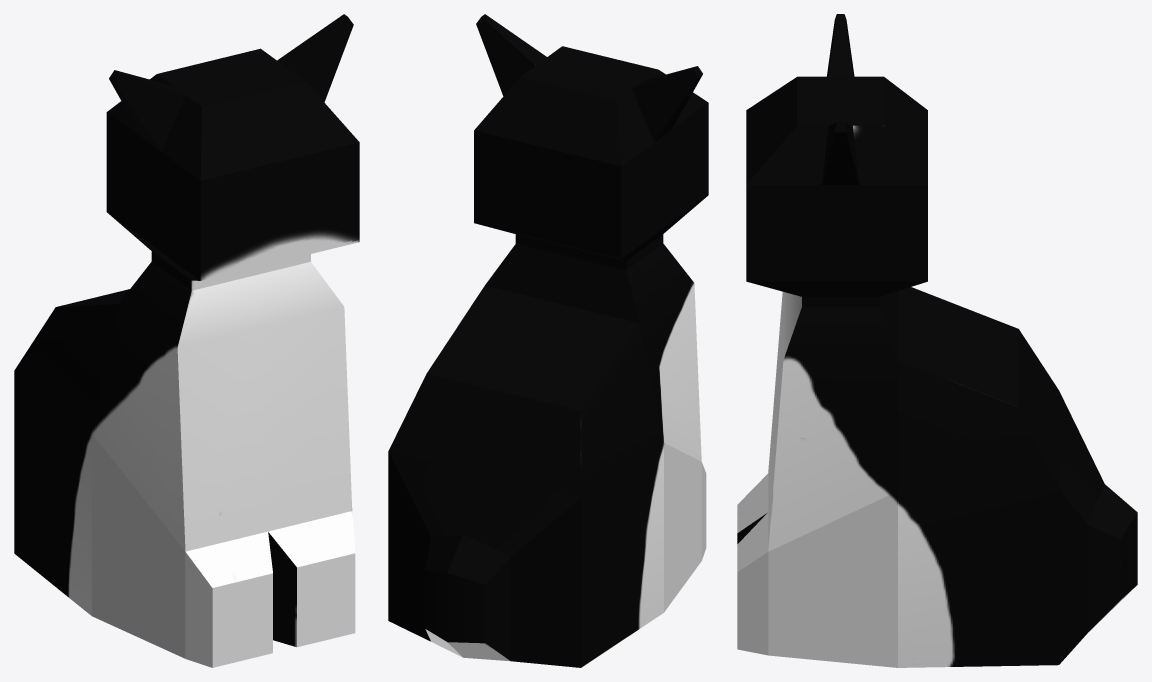
File: Cat.fbx
3 views of the same model, side by side, from view 1: azimuth 30°, elevation 25°; view 2: azimuth 150°, elevation 25°; view 3: azimuth 270°, elevation 25° (orthographic). The views are drawn at different scales.
Parts seen in each view (by area): view 1: Cat; view 2: Cat; view 3: Cat.
Boxes of the visible parts, x1=… form: Cat: x1=14, y1=14, x2=359, y2=667; Cat: x1=388, y1=14, x2=708, y2=667; Cat: x1=737, y1=14, x2=1137, y2=667.
Size of the model in its own units: 0.8377 by 1.9 by 1.26.
